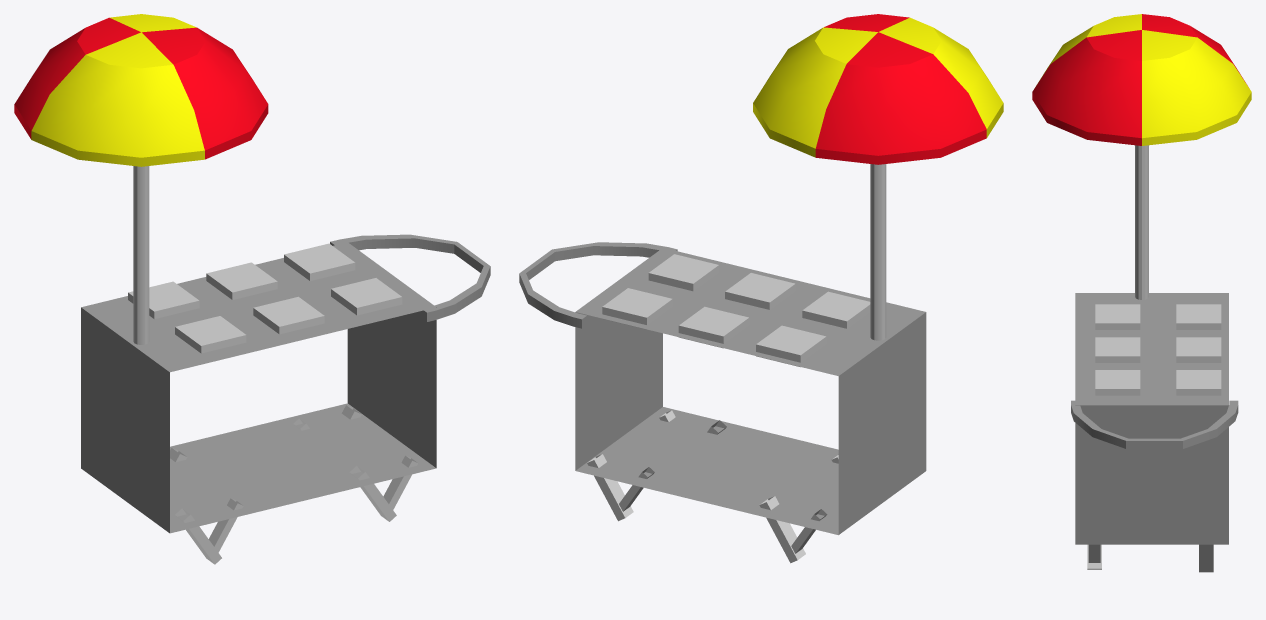
File: CachorroQuenteLOD0.fbx
3 renders of one model, left to right at view 1: azimuth 30°, elevation 25°; view 2: azimuth 150°, elevation 25°; view 3: azimuth 270°, elevation 25°, orthographic. The views are drawn at different scales.
Parts seen in each view (by area): view 1: CarrinhoDeCachorroQuenteLOD0; view 2: CarrinhoDeCachorroQuenteLOD0; view 3: CarrinhoDeCachorroQuenteLOD0.
Part boxes in pixels (box(x1,y1,x2,y2)): CarrinhoDeCachorroQuenteLOD0: box(14, 14, 490, 564); CarrinhoDeCachorroQuenteLOD0: box(519, 14, 1003, 563); CarrinhoDeCachorroQuenteLOD0: box(1032, 14, 1251, 572).
Size of the model in its own units: 149 by 177 by 73.04.
